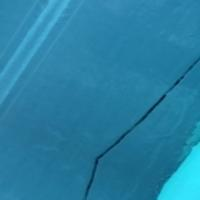crack: (83, 58, 199, 199)
